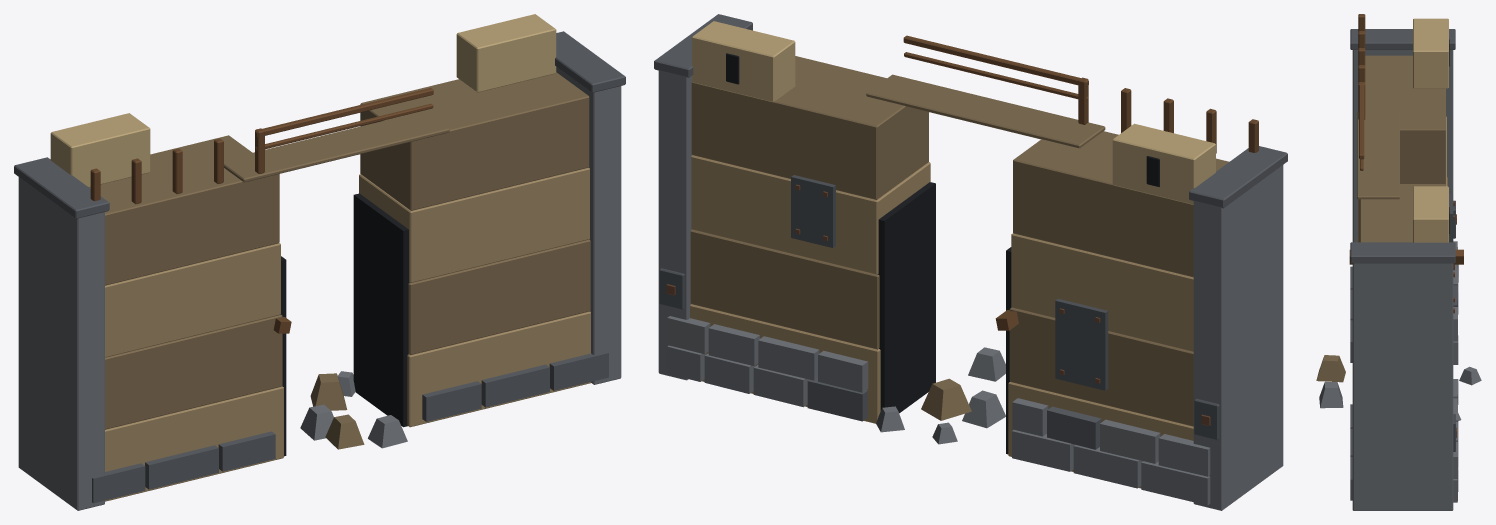
Rendered from mdl_wall_segment_breach_v1.glb.
The picture shows the model from 3 angles, left to right: view 1: azimuth 30°, elevation 25°; view 2: azimuth 150°, elevation 25°; view 3: azimuth 270°, elevation 25°; orthographic projection. The views are drawn at different scales.
Visible parts, largest first — view 1: GEO_Wall_Segment_Breach, GEO_Wall_Segment_Breach_Detail; view 2: GEO_Wall_Segment_Breach, GEO_Wall_Segment_Breach_Detail; view 3: GEO_Wall_Segment_Breach, GEO_Wall_Segment_Breach_Detail.
Boxes of the visible parts, x1,y1,x2,y2 form: GEO_Wall_Segment_Breach: [14, 14, 625, 510]; GEO_Wall_Segment_Breach_Detail: [92, 193, 608, 503]; GEO_Wall_Segment_Breach: [654, 14, 1287, 510]; GEO_Wall_Segment_Breach_Detail: [667, 175, 1210, 505]; GEO_Wall_Segment_Breach: [1350, 14, 1456, 510]; GEO_Wall_Segment_Breach_Detail: [1316, 194, 1481, 502].
Size of the model in its own units: 7.05 by 4.08 by 2.17.
